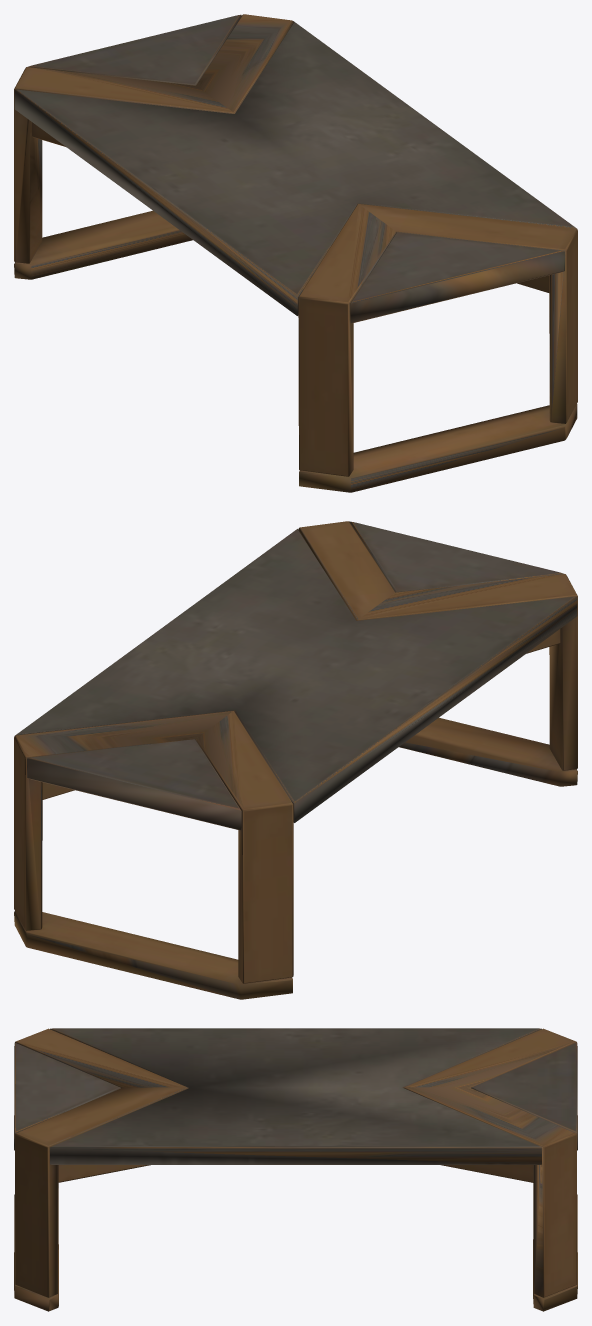
The model's file is coffee_table.glb.
3 renders of one model, top to bottom at view 1: azimuth 30°, elevation 25°; view 2: azimuth 150°, elevation 25°; view 3: azimuth 270°, elevation 25°, orthographic. The views are drawn at different scales.
Parts seen in each view (by area): view 1: coffee_table; view 2: coffee_table; view 3: coffee_table.
Boxes of the visible parts, box(x1,y1,x2,y2) form: coffee_table: box(14, 14, 577, 492); coffee_table: box(14, 521, 577, 999); coffee_table: box(14, 1028, 577, 1311).
Bounding box in the file's own units: 0.5989 × 0.39 × 1.2.
Materials: 1 (1 with a texture image).
